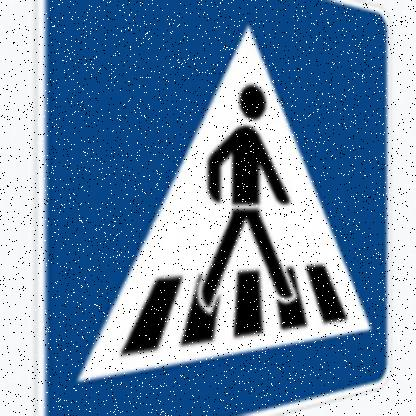Pedestrian Crossing: (34, 1, 394, 416)
